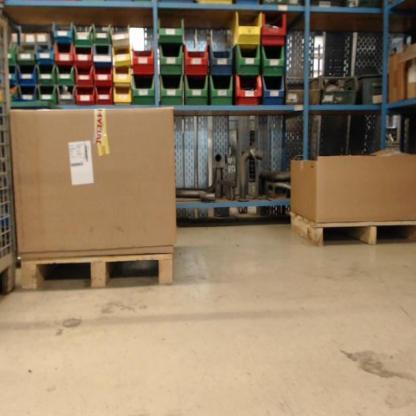pallets: (16, 247, 172, 291), (288, 211, 415, 249)
